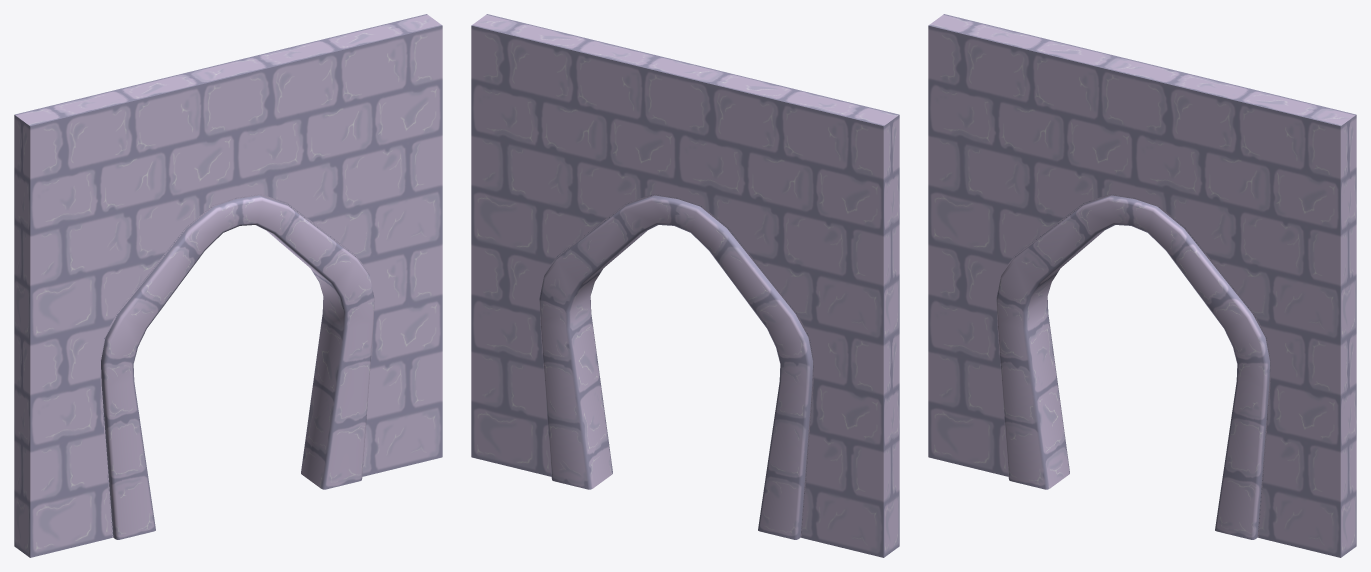
The model's file is SM_ArchwayWide.fbx.
3 renders of one model, left to right at view 1: azimuth 30°, elevation 25°; view 2: azimuth 150°, elevation 25°; view 3: azimuth 330°, elevation 25°, orthographic.
Visible parts, largest first — view 1: SM_ArchwayWide; view 2: SM_ArchwayWide; view 3: SM_ArchwayWide.
Boxes of the visible parts, box(x1,y1,x2,y2) form: SM_ArchwayWide: box(14, 14, 442, 557); SM_ArchwayWide: box(471, 14, 899, 557); SM_ArchwayWide: box(928, 14, 1356, 557).
Bounding box in the file's own units: 6 × 0.5932 × 6.
